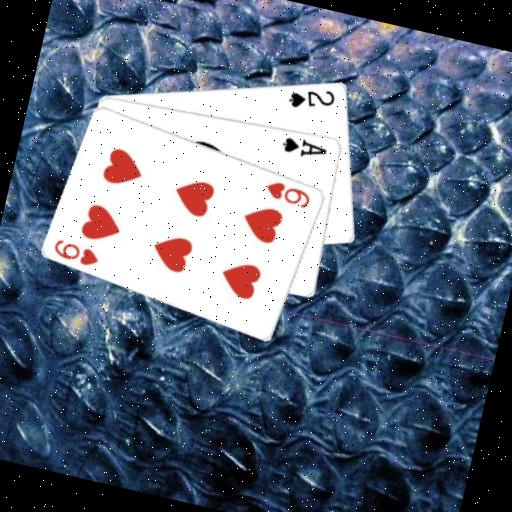2S: (284, 78, 339, 118)
6H: (261, 175, 315, 211), (49, 234, 103, 270)
AS: (278, 131, 331, 163)
